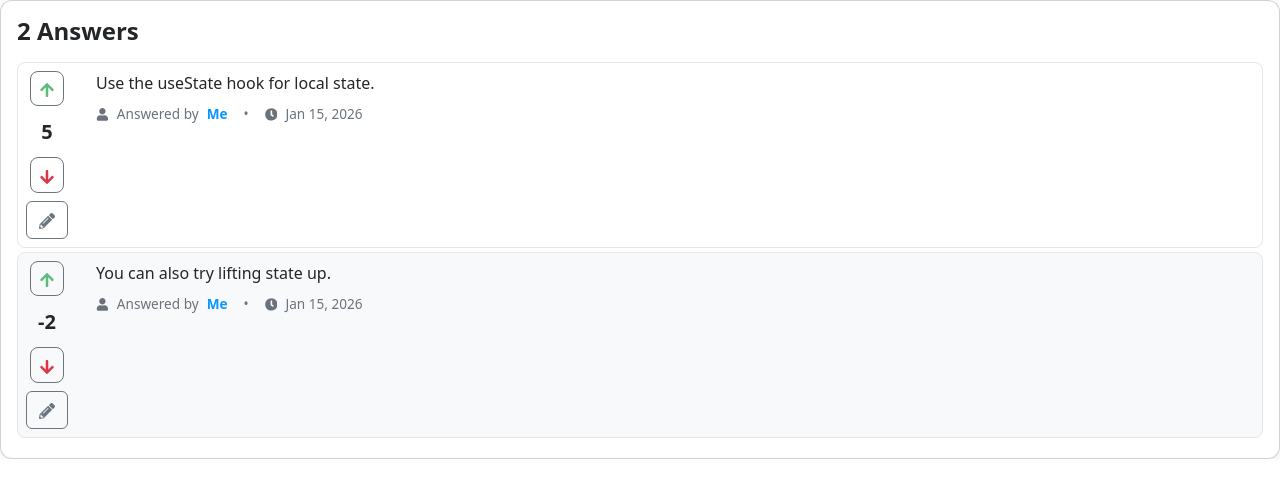
AnswerList Component › Edit affordance › clicking a pencil shows a form pre-filled with that answer's text
Click the button named "edit" below "Use the useState hook for local state.". click: (47, 220)
box: [26,201,68,239]
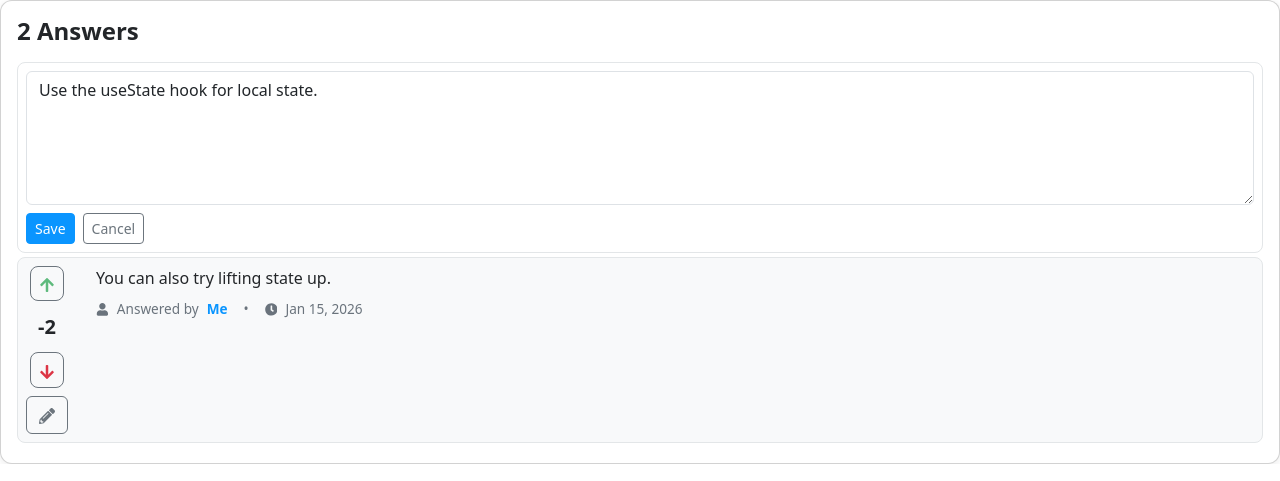
Result: the text box holds "Use the useState hook for local state." at [26,71,1254,205]
